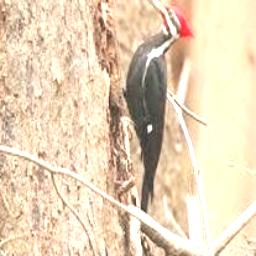Woodpecker: (124, 0, 195, 215)
